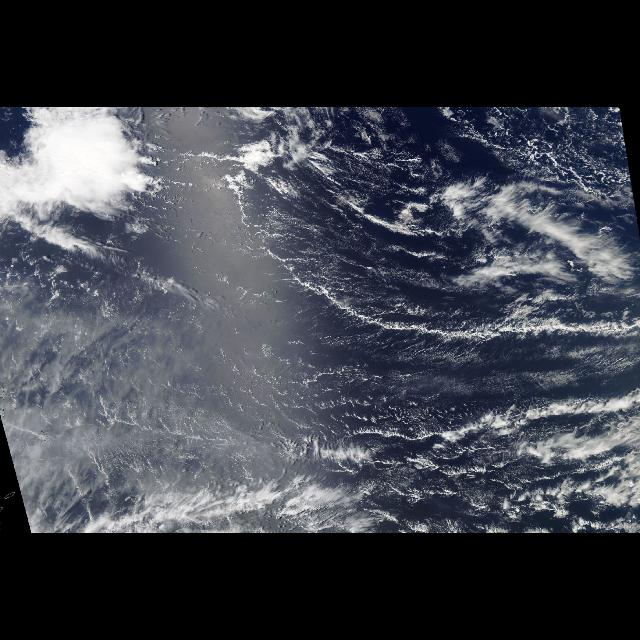Gravel: (164, 154, 526, 532)
Sugar: (290, 287, 632, 423)
